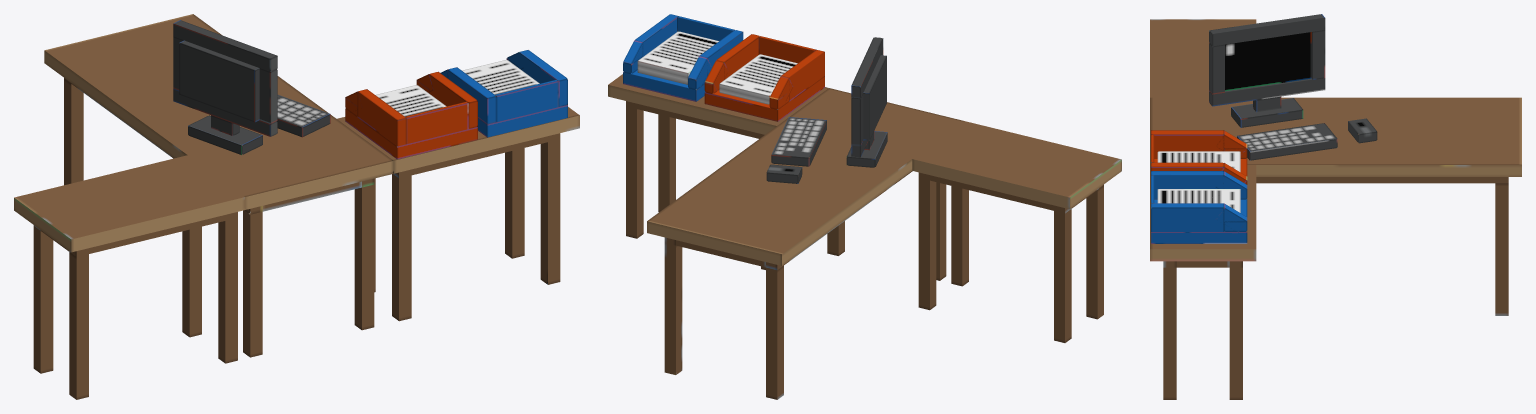
The model's file is Stol_4.fbx.
The picture shows the model from 3 angles, left to right: view 1: azimuth 30°, elevation 25°; view 2: azimuth 150°, elevation 25°; view 3: azimuth 270°, elevation 25°; orthographic projection. The views are drawn at different scales.
Visible parts, largest first — view 1: cube, cube_9, cube_27, cube_10, cube_20, cube_4, cube_25, cube_5, cube_26, cube_19, cube_23, cube_21 (+20 smaller); view 2: cube, cube_9, cube_10, cube_24, cube_3, cube_48, cube_2, cube_25, cube_21, cube_26, cube_41, cube_34 (+20 smaller); view 3: cube, cube_9, cube_27, cube_10, cube_34, cube_52, cube_28, cube_3, cube_20, cube_21, cube_6, cube_31 (+15 smaller).
Boxes of the visible parts, left/top/right/bottom form: cube: left=44, top=14, right=393, bottom=209; cube_9: left=14, top=155, right=244, bottom=252; cube_27: left=179, top=40, right=259, bottom=122; cube_10: left=337, top=107, right=579, bottom=173; cube_20: left=540, top=139, right=560, bottom=284; cube_4: left=354, top=184, right=374, bottom=330; cube_25: left=33, top=226, right=53, bottom=373; cube_5: left=243, top=210, right=262, bottom=357; cube_26: left=69, top=252, right=88, bottom=399; cube_19: left=392, top=174, right=411, bottom=321; cube_23: left=218, top=218, right=237, bottom=363; cube_21: left=505, top=148, right=524, bottom=258; cube: left=647, top=88, right=963, bottom=265; cube_9: left=912, top=121, right=1121, bottom=209; cube_10: left=608, top=74, right=828, bottom=134; cube_24: left=918, top=178, right=936, bottom=310; cube_3: left=664, top=243, right=682, bottom=374; cube_48: left=637, top=31, right=718, bottom=84; cube_2: left=766, top=266, right=783, bottom=399; cube_25: left=1054, top=209, right=1071, bottom=342; cube_21: left=626, top=106, right=643, bottom=238; cube_26: left=1086, top=185, right=1103, bottom=319; cube_41: left=719, top=54, right=797, bottom=104; cube_34: left=771, top=117, right=826, bottom=166; cube: left=1150, top=97, right=1521, bottom=176; cube_9: left=1150, top=19, right=1256, bottom=97; cube_27: left=1225, top=32, right=1311, bottom=91; cube_10: left=1150, top=165, right=1256, bottom=261; cube_34: left=1237, top=123, right=1337, bottom=160; cube_52: left=1151, top=203, right=1224, bottom=231; cube_28: left=1209, top=14, right=1325, bottom=46; cube_3: left=1495, top=183, right=1508, bottom=315; cube_20: left=1163, top=267, right=1176, bottom=399; cube_21: left=1229, top=267, right=1242, bottom=399; cube_6: left=1256, top=177, right=1508, bottom=183; cube_31: left=1209, top=78, right=1325, bottom=106.
Size of the model in its own units: 256 by 130 by 175.
2 materials, 2 textured.
